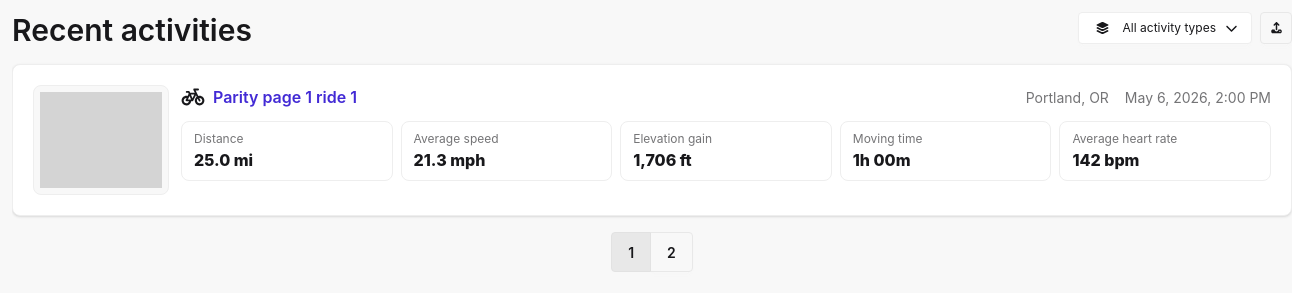
it: ActivityStream › renders page two and restores page one without a page URL parameter
The width and height of the screenshot is (1292, 293).
Expected: the heading "Parity page 1 ride 1" is shown, [213,87,357,107]
Click the button "2". click: point(671, 252)
box: [650,232,693,272]
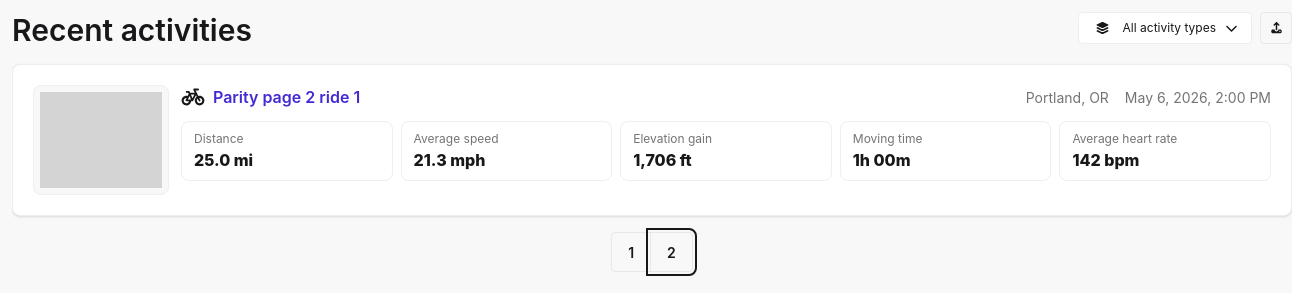
Expected: the heading "Parity page 2 ride 1" is shown, [213,87,360,107]
Click the button "1". click: point(631, 252)
box: [611,232,651,272]
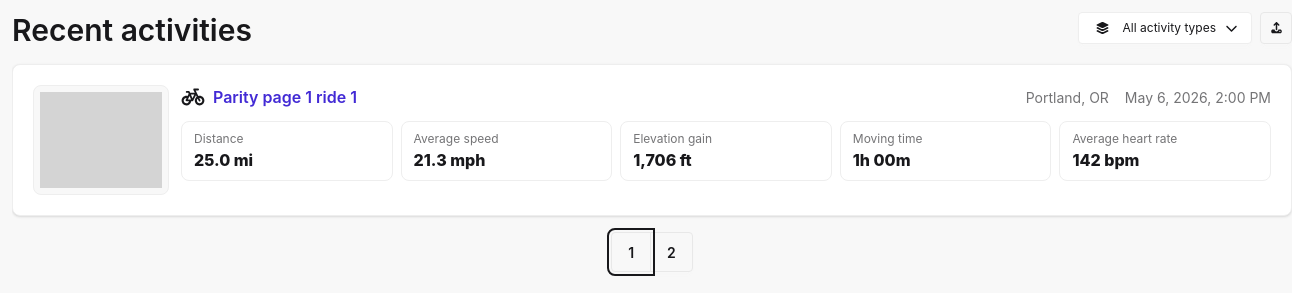
Expected: the heading "Parity page 1 ride 1" is shown, [213,87,357,107]
